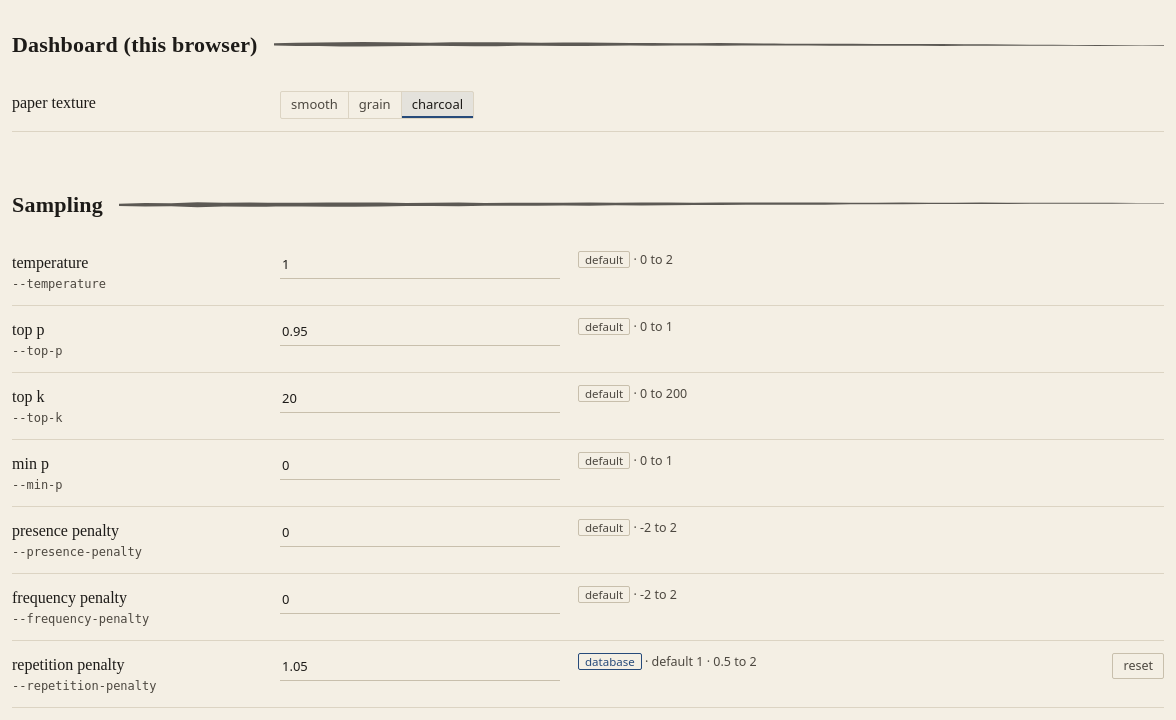
SettingsView › an out-of-range edit shows the server message inline and leaves the value alone
Replace the text in the number field named "top p" with "5" at (420, 332), box [280,318,560,346]
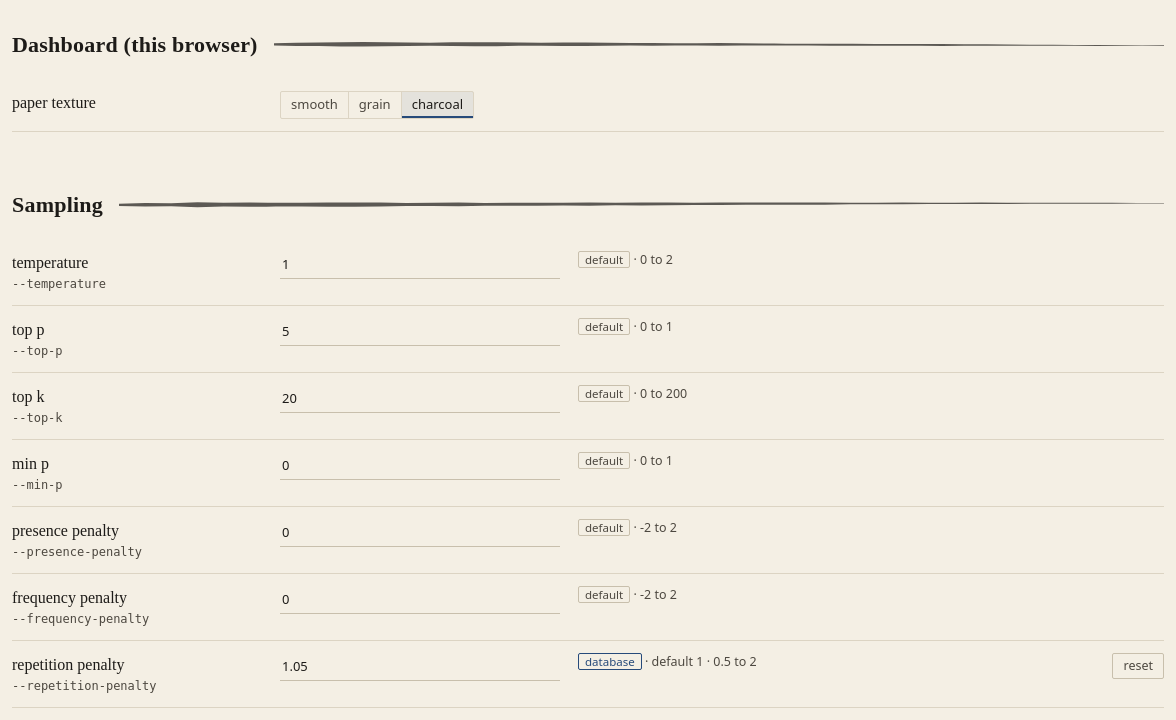
Press Enter in the number field named "top p", box [280,318,560,346]
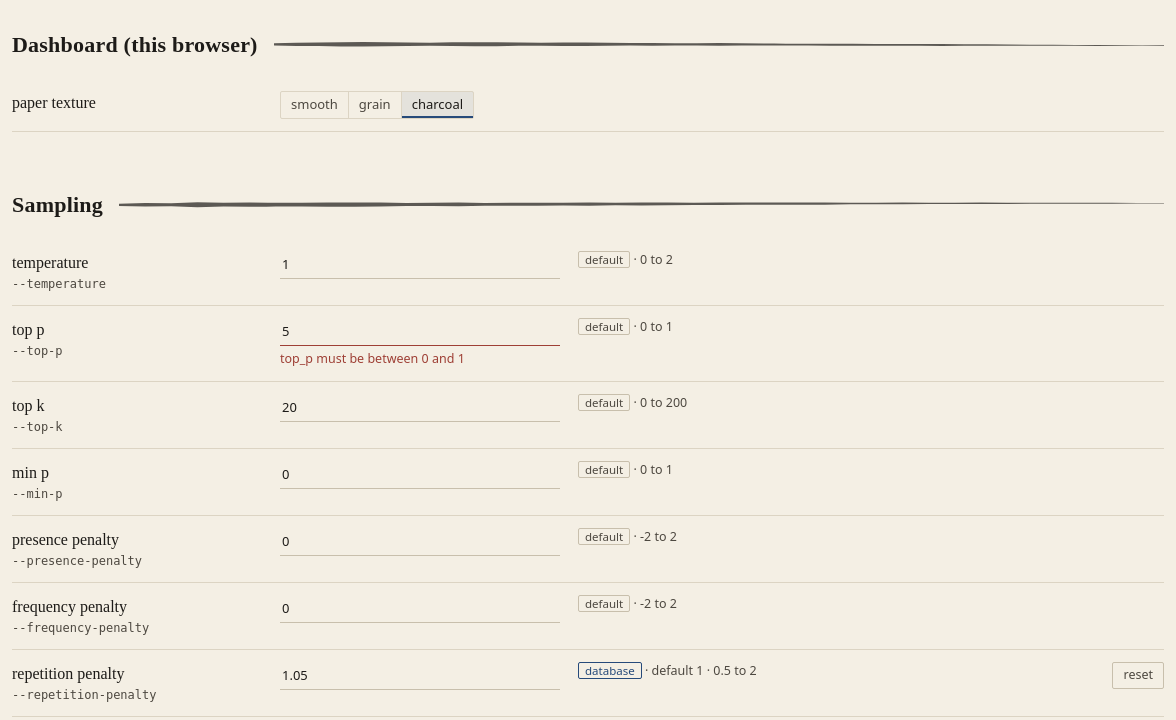
Expected: the element with class "set-row" shows "default", [585,318,623,334]
Expected: the message "top_p must be between 0 and 1" is shown, [280,350,465,367]
